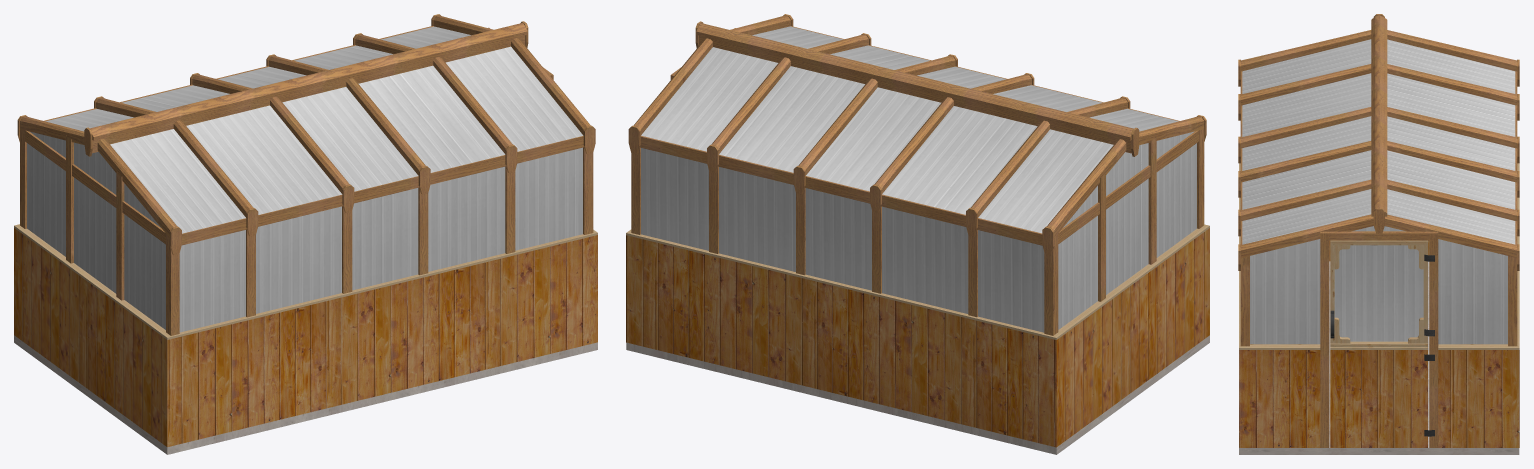
The model's file is GreenHouse.fbx.
3 renders of one model, left to right at view 1: azimuth 30°, elevation 25°; view 2: azimuth 150°, elevation 25°; view 3: azimuth 270°, elevation 25°, orthographic. The views are drawn at different scales.
Parts seen in each view (by area): view 1: Green_House; view 2: Green_House; view 3: Green_House.
Part boxes in pixels (<box>): Green_House: <box>14,14,597,454</box>; Green_House: <box>626,14,1209,454</box>; Green_House: <box>1238,14,1519,454</box>.
Bounding box in the file's own units: 400 × 233 × 240.
Materials: 4 (3 with a texture image).
